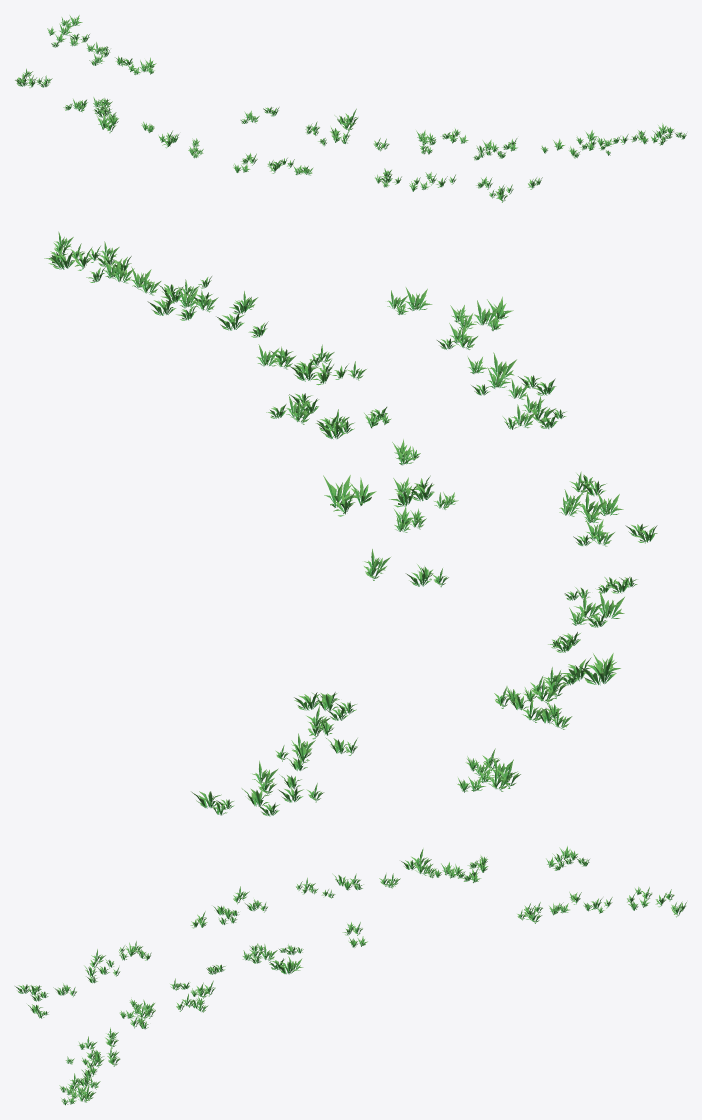
The model's file is area_08_12.fbx.
3 views of the same model, one above another, from view 1: azimuth 30°, elevation 25°; view 2: azimuth 150°, elevation 25°; view 3: azimuth 270°, elevation 25° (orthographic). The views are drawn at different scales.
Parts seen in each view (by area): view 1: area_08_12; view 2: area_08_12; view 3: area_08_12.
Boxes of the visible parts, <box> form: area_08_12: <box>15,15,686,202</box>; area_08_12: <box>44,231,657,816</box>; area_08_12: <box>15,846,686,1105</box>.
Bounding box in the file's own units: 50.01 × 1.64 × 56.42.
